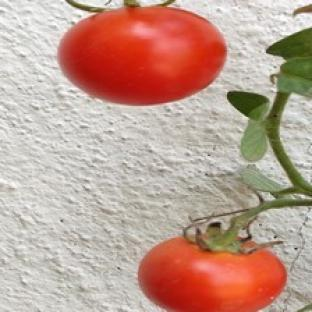Tomato: (59, 6, 227, 105), (138, 237, 286, 311)
